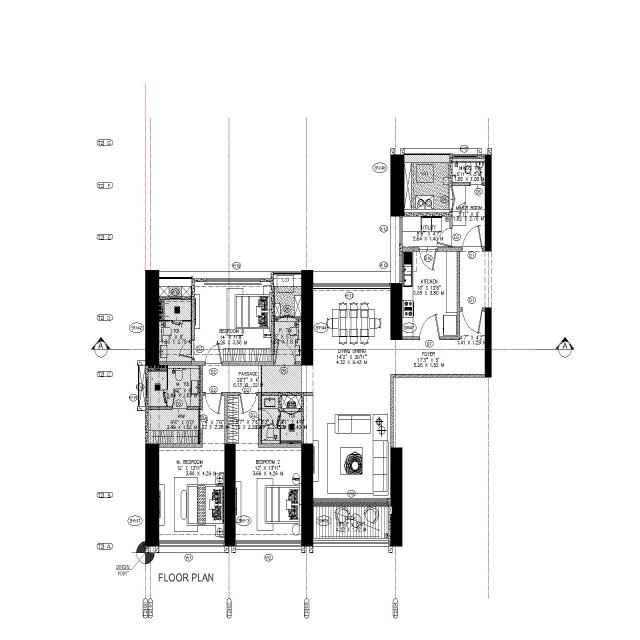Column: (300, 441, 316, 548), (144, 442, 160, 548), (223, 441, 238, 548), (300, 269, 316, 367), (144, 269, 160, 367), (390, 446, 404, 548), (390, 154, 406, 218), (389, 281, 404, 341), (484, 154, 493, 252), (484, 305, 493, 378)
Door: (460, 245, 486, 252), (272, 360, 298, 367), (448, 185, 454, 210), (461, 307, 484, 313), (204, 360, 223, 367), (257, 407, 263, 429), (190, 337, 196, 359), (418, 246, 438, 252), (238, 391, 258, 397), (170, 405, 190, 411), (204, 392, 223, 398), (282, 406, 301, 412), (468, 180, 484, 186), (418, 336, 441, 340), (449, 226, 453, 248), (166, 387, 168, 407)
Ventilator: (205, 277, 262, 283)
Window: (234, 538, 303, 548), (157, 538, 225, 548), (312, 282, 392, 288), (398, 254, 404, 286), (398, 215, 404, 245), (168, 295, 183, 301), (145, 375, 149, 397)
